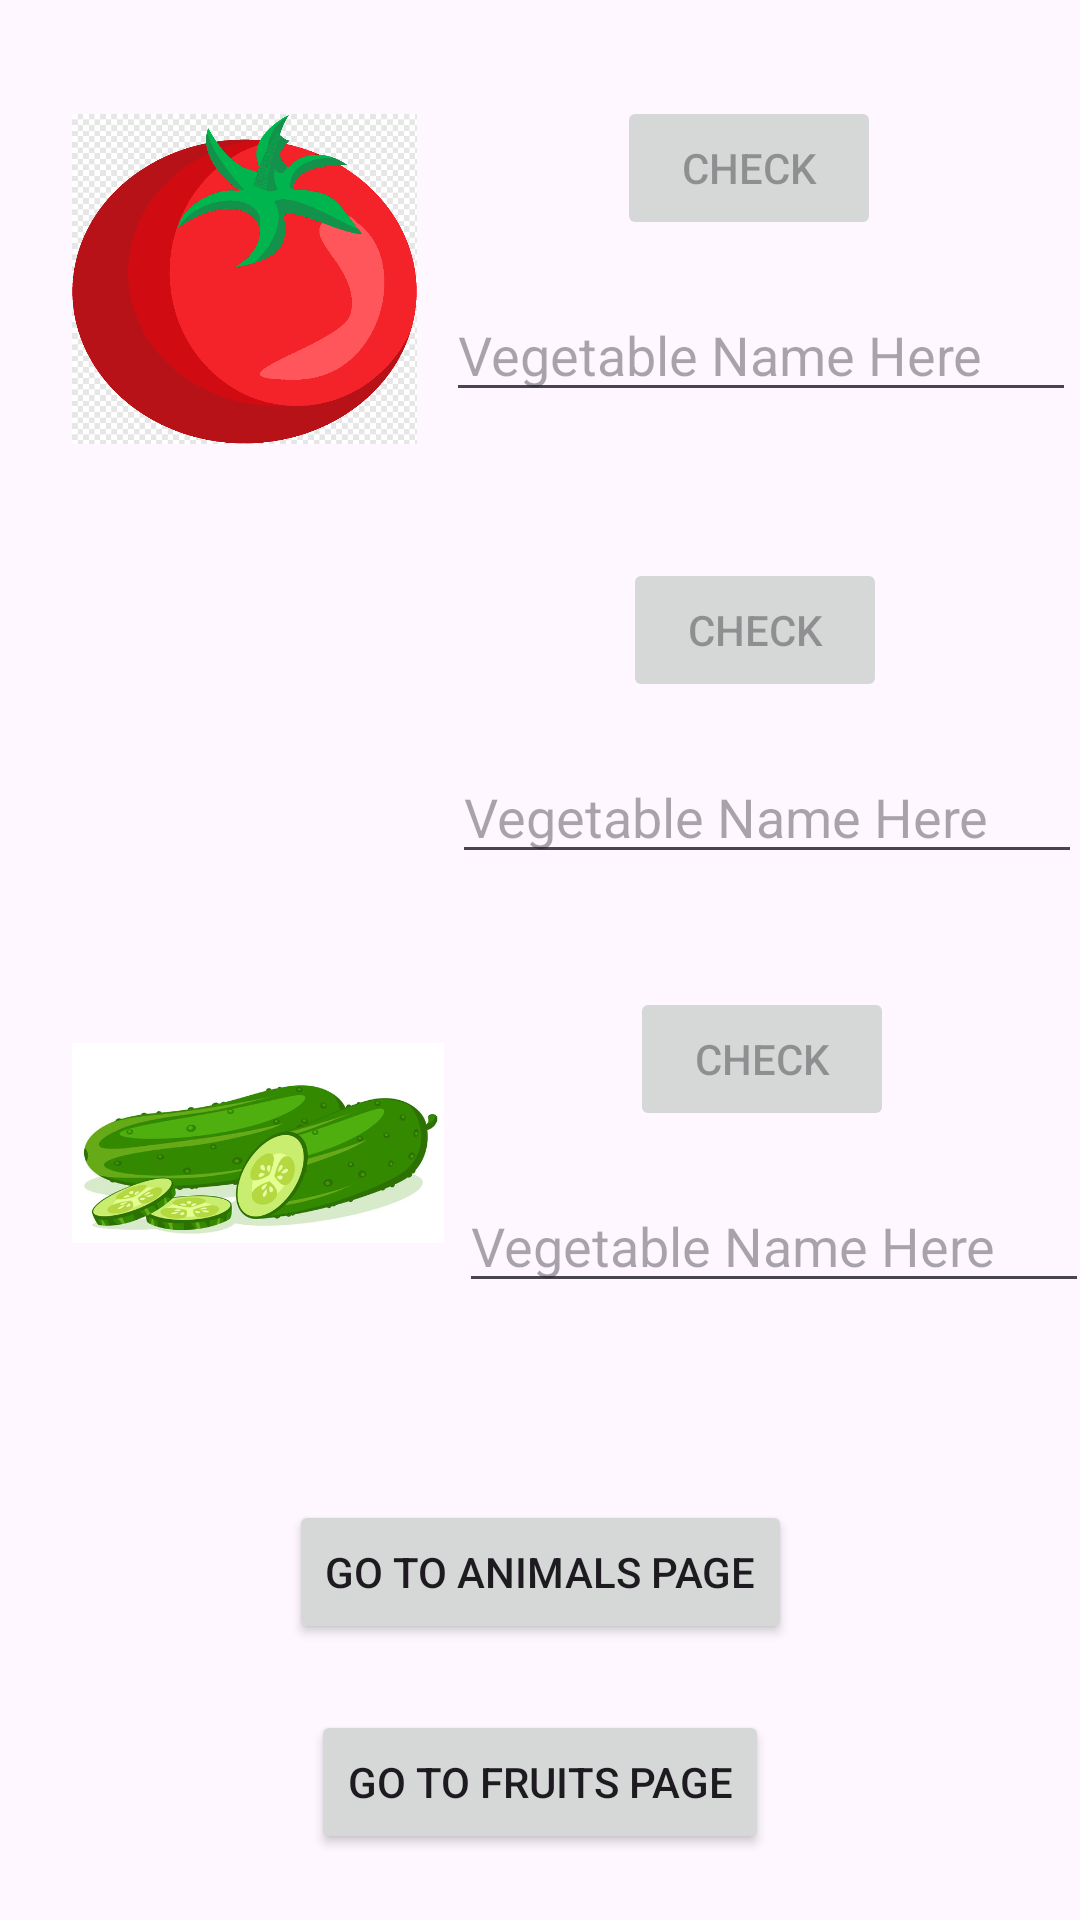

Named icons in this screenshot (1080*1920) and their centers, point (x, y):
cucamber: point (261, 1159)
tomato: point (244, 279)
